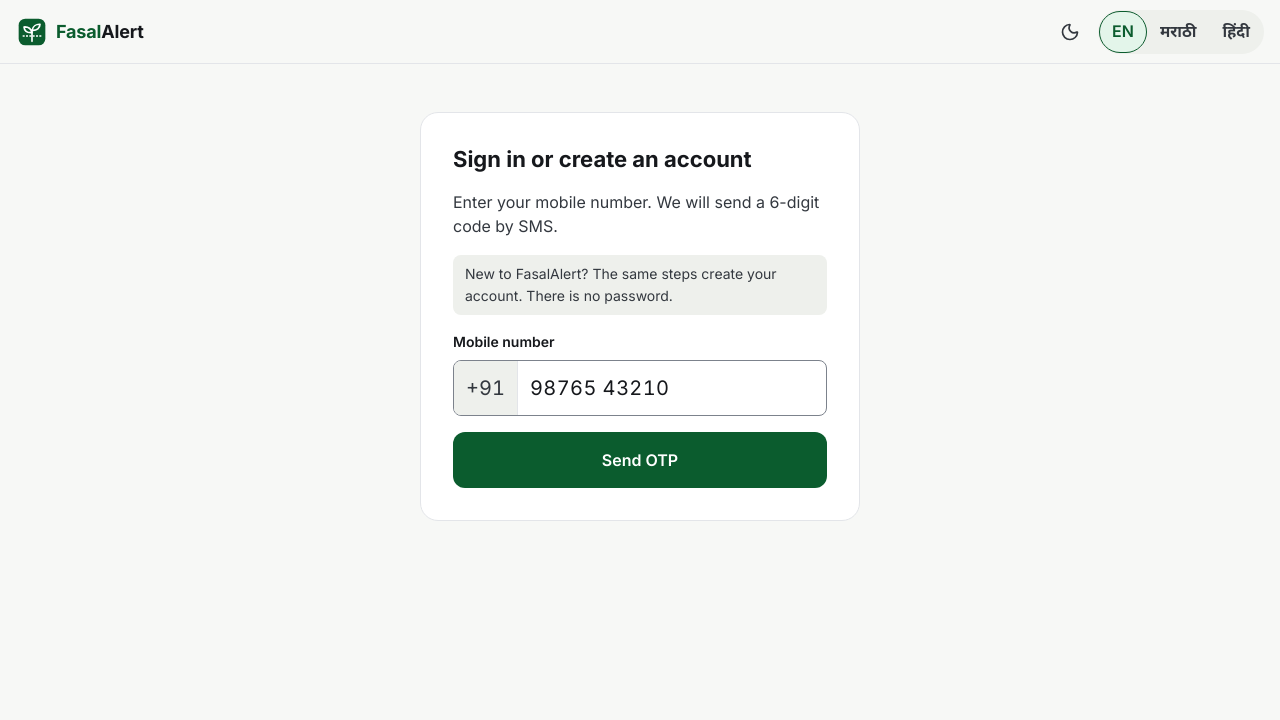
Scenario: one input drawn as 6 boxes: paste distributes digits and the 6th digit submits
Expected: the field labelled "Mobile number" holds "98765 43210", [518,361,826,415]
Click the button "Send OTP" at {"x": 640, "y": 460}, box [453,432,827,488]
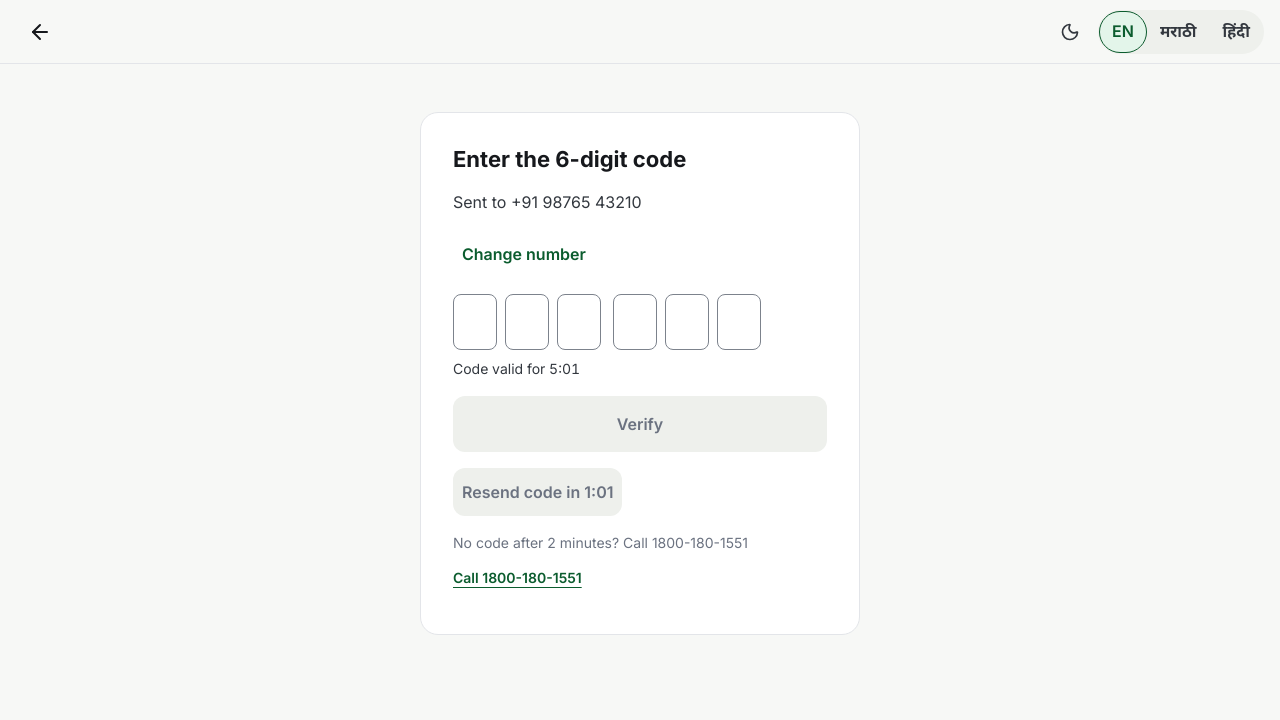
Expected: the heading "Enter the 6-digit code" is shown, [453,146,686,172]
Replace the text in the field named "6-digit code" with "12 34 56" at {"x": 517, "y": 369}, box [452,294,761,377]
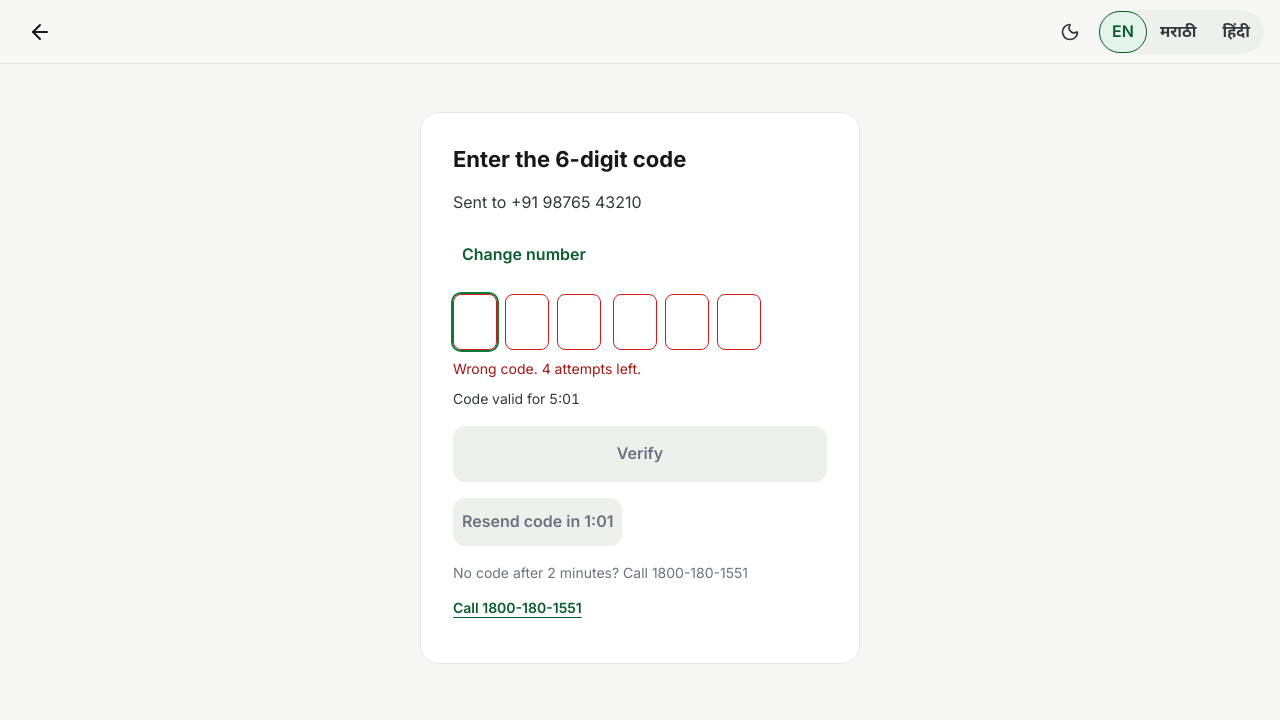
Expected: the element named "6-digit code" is empty, [452,294,761,407]
Expected: the 1st icon is shown, [28,20,52,44]
Expected: the text "Wrong code. 4 attempts left." is shown, [453,360,641,377]
